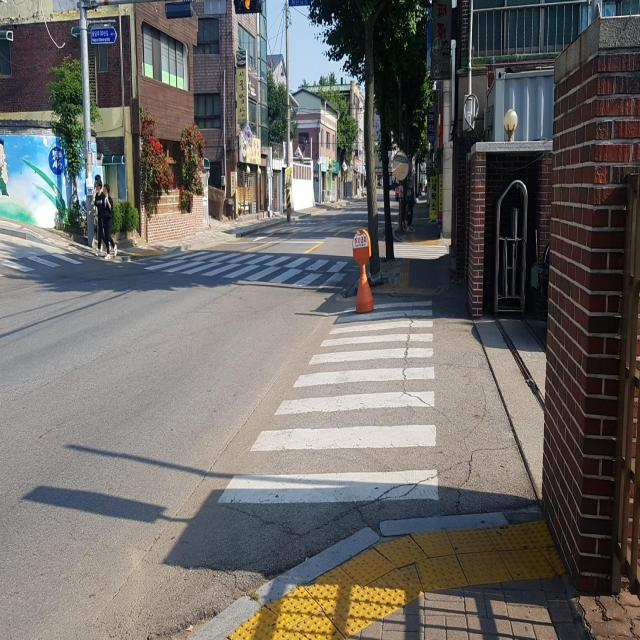횡단보도: (217, 298, 440, 505), (130, 245, 383, 280)
